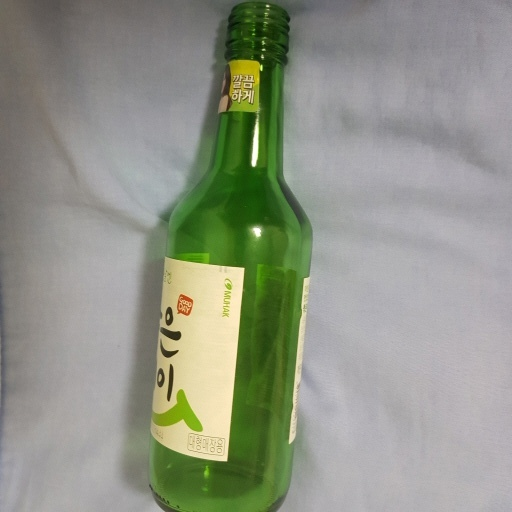Glass_0: (143, 4, 318, 512)
